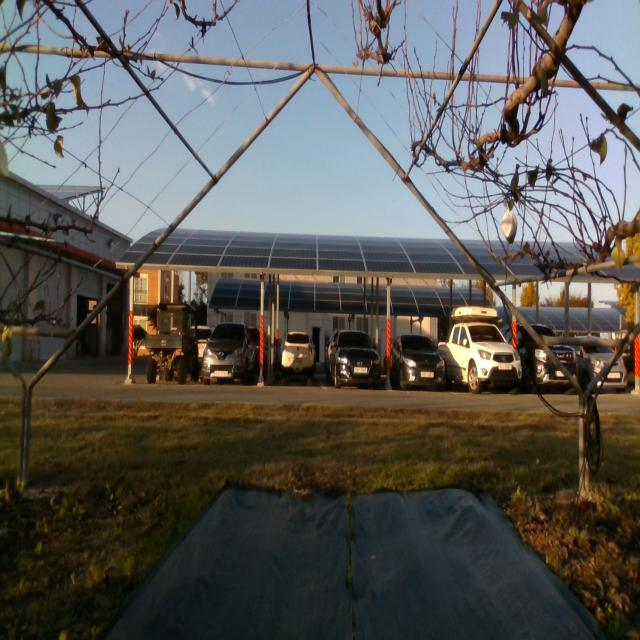pearbags: (502, 209, 517, 243)
